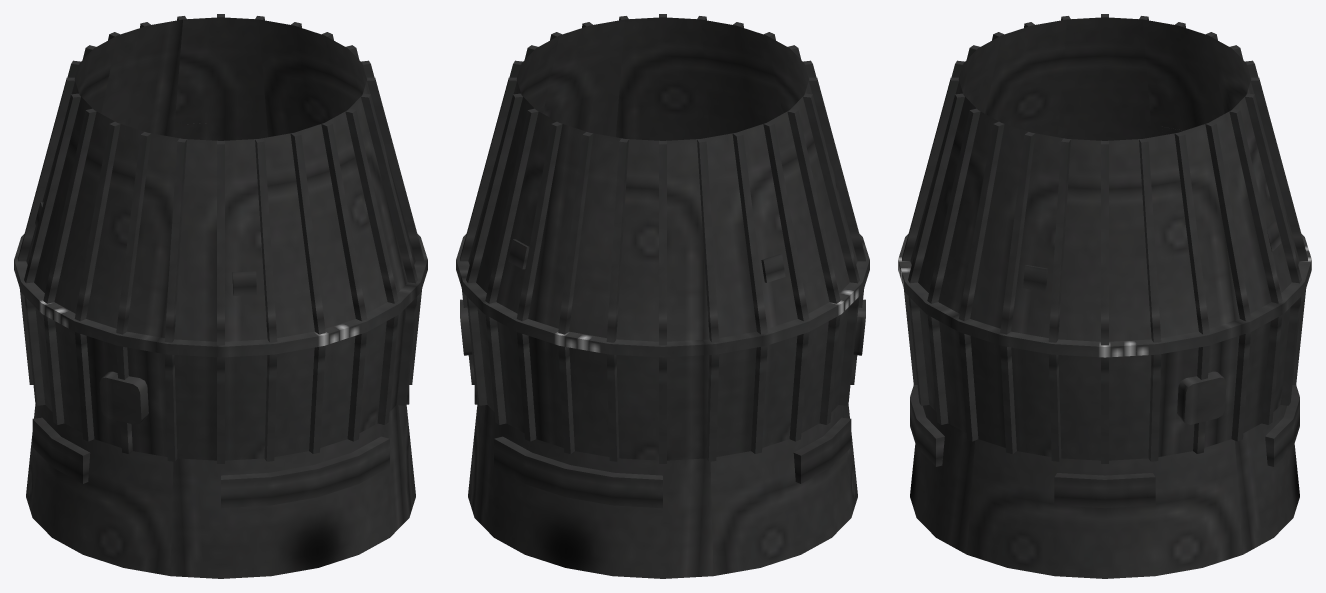
File: hamal_avionics_s1_1.obj
3 renders of one model, left to right at view 1: azimuth 30°, elevation 25°; view 2: azimuth 150°, elevation 25°; view 3: azimuth 270°, elevation 25°, orthographic.
Parts seen in each view (by area): view 1: 1; view 2: 1; view 3: 1.
Part boxes in pixels (x1,y1,x2,y2): 1: (14, 14, 427, 578); 1: (456, 14, 869, 578); 1: (898, 14, 1311, 578).
Bounding box in the file's own units: 1.33 × 1.48 × 1.33.
